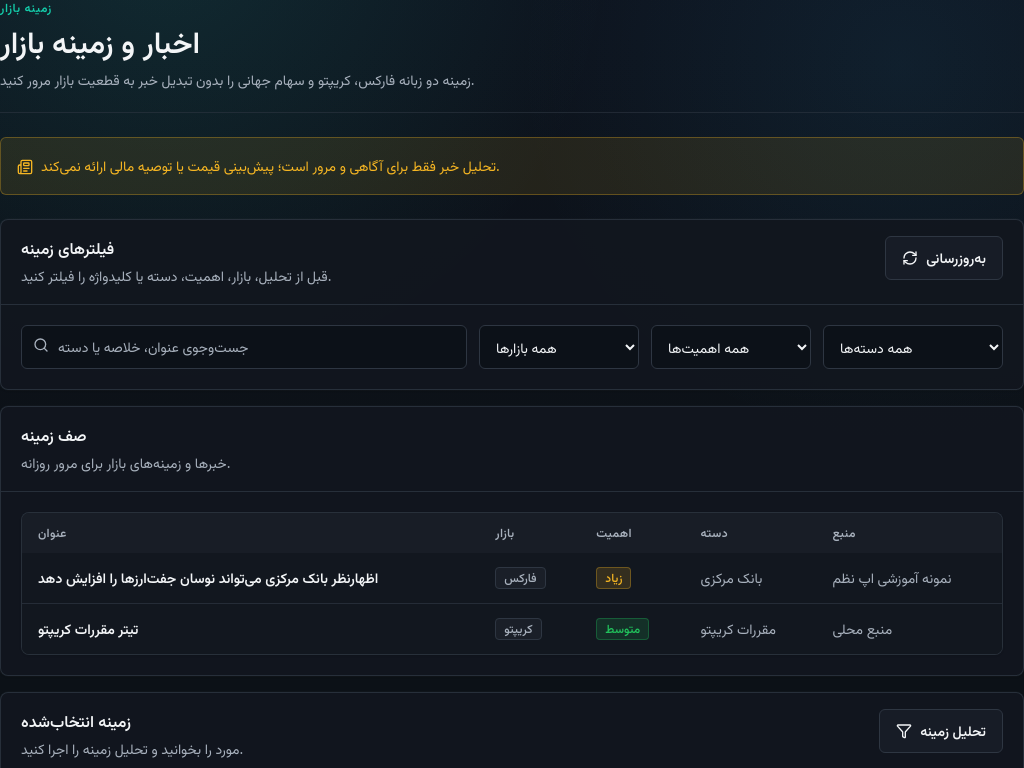
Test: NewsScreen in Persian › asks a signed-out visitor to sign in when the analysis needs an account
The image size is (1024, 768).
Expected: the table is shown, [22, 513, 1002, 654]
Click the button "تحلیل زمینه" at (941, 731), box [879, 709, 1003, 753]
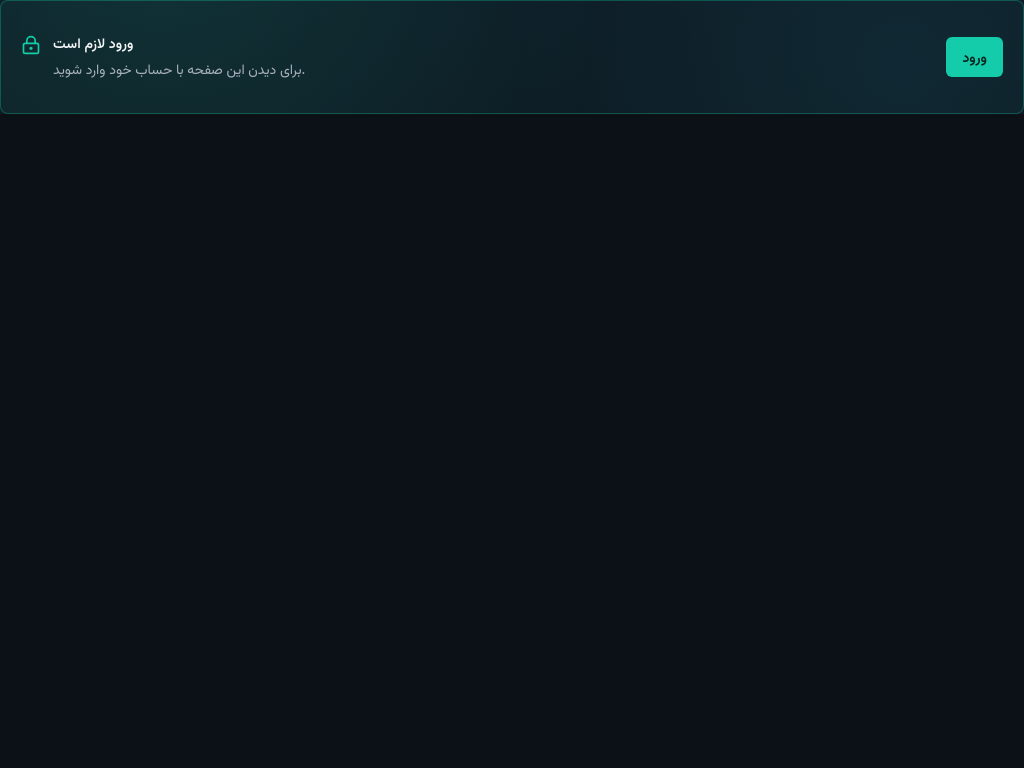
Expected: the text "ورود لازم است" is shown, [53, 33, 133, 52]
